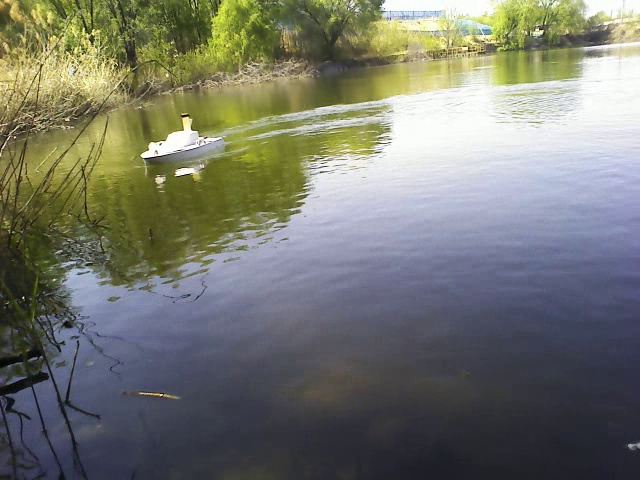boat: (138, 117, 227, 167)
